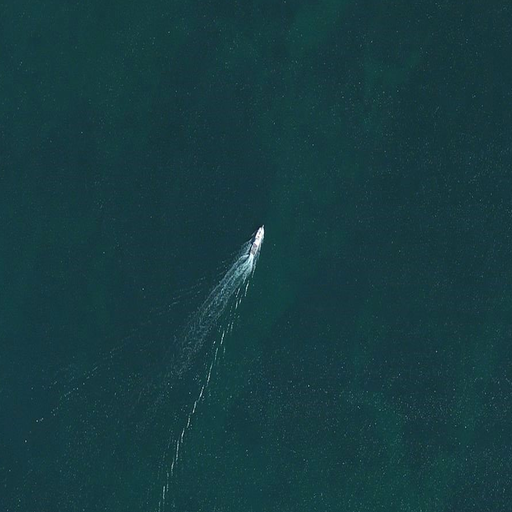ship: (252, 222, 268, 250)
